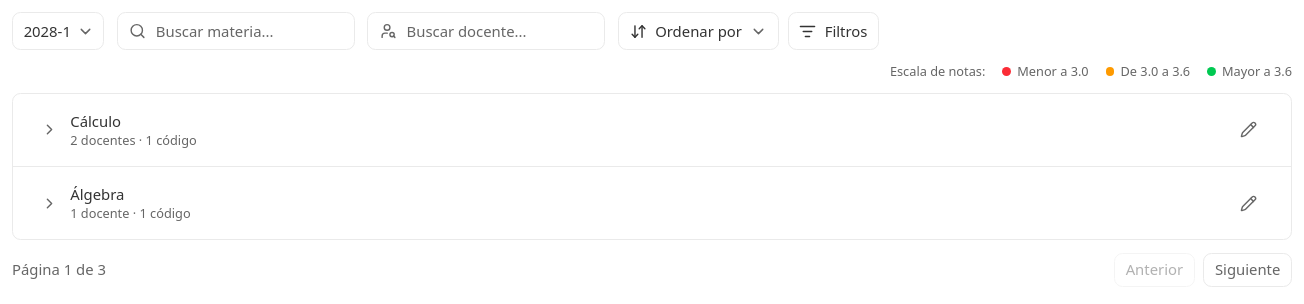
Test case: SubjectsList › stays on the page the user moved to once the URL period settles
Expected: the text "Cálculo" is shown, [70,111,121,131]
Click the button "Siguiente": (1248, 270) [1203,253,1292,287]
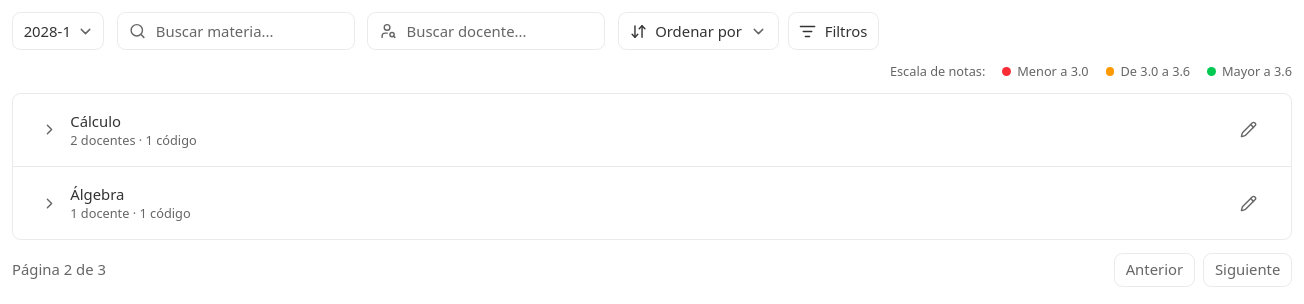
Expected: the text "Página 2 de 3" is shown, [12,259,106,281]
